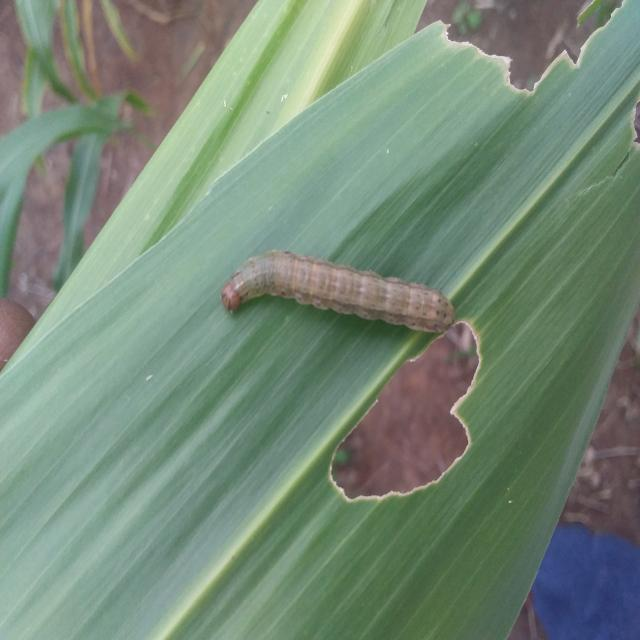yellow-stem-borer-larva: (206, 235, 469, 337)
